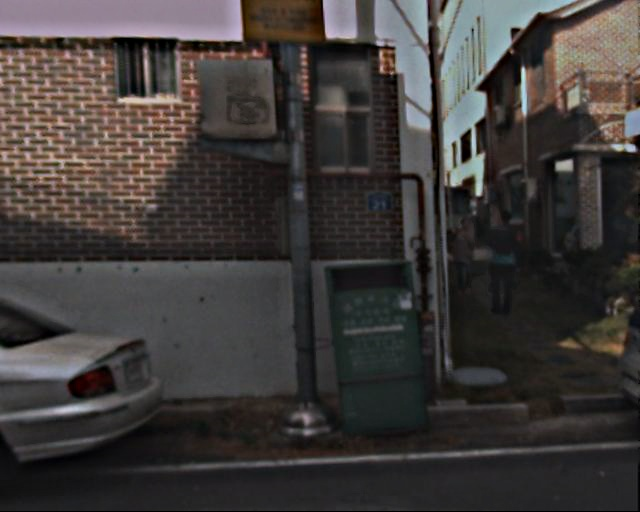person: (475, 209, 523, 320), (444, 214, 479, 295)
